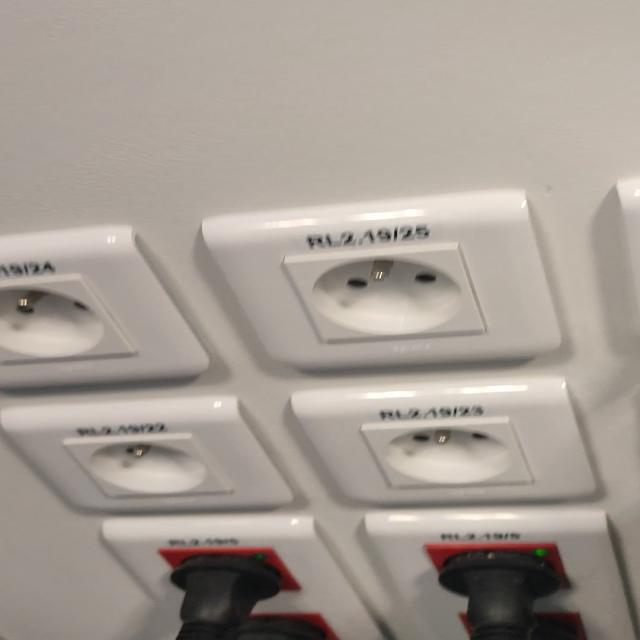house plug: (283, 243, 491, 344), (363, 416, 535, 488), (0, 274, 139, 363), (60, 432, 232, 497)
